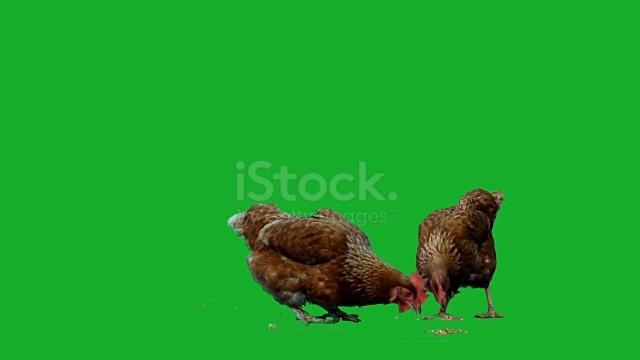Normal: (229, 195, 428, 327), (416, 185, 505, 318)
